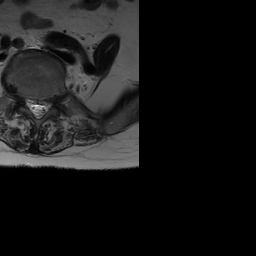CCS_normal: (34, 89, 40, 124)
LFS_stenosis: (48, 90, 54, 114)
LLS_normal: (40, 90, 48, 120)
RFS_severe_stenosis: (19, 89, 26, 110)
RLS_normal: (26, 90, 34, 119)
